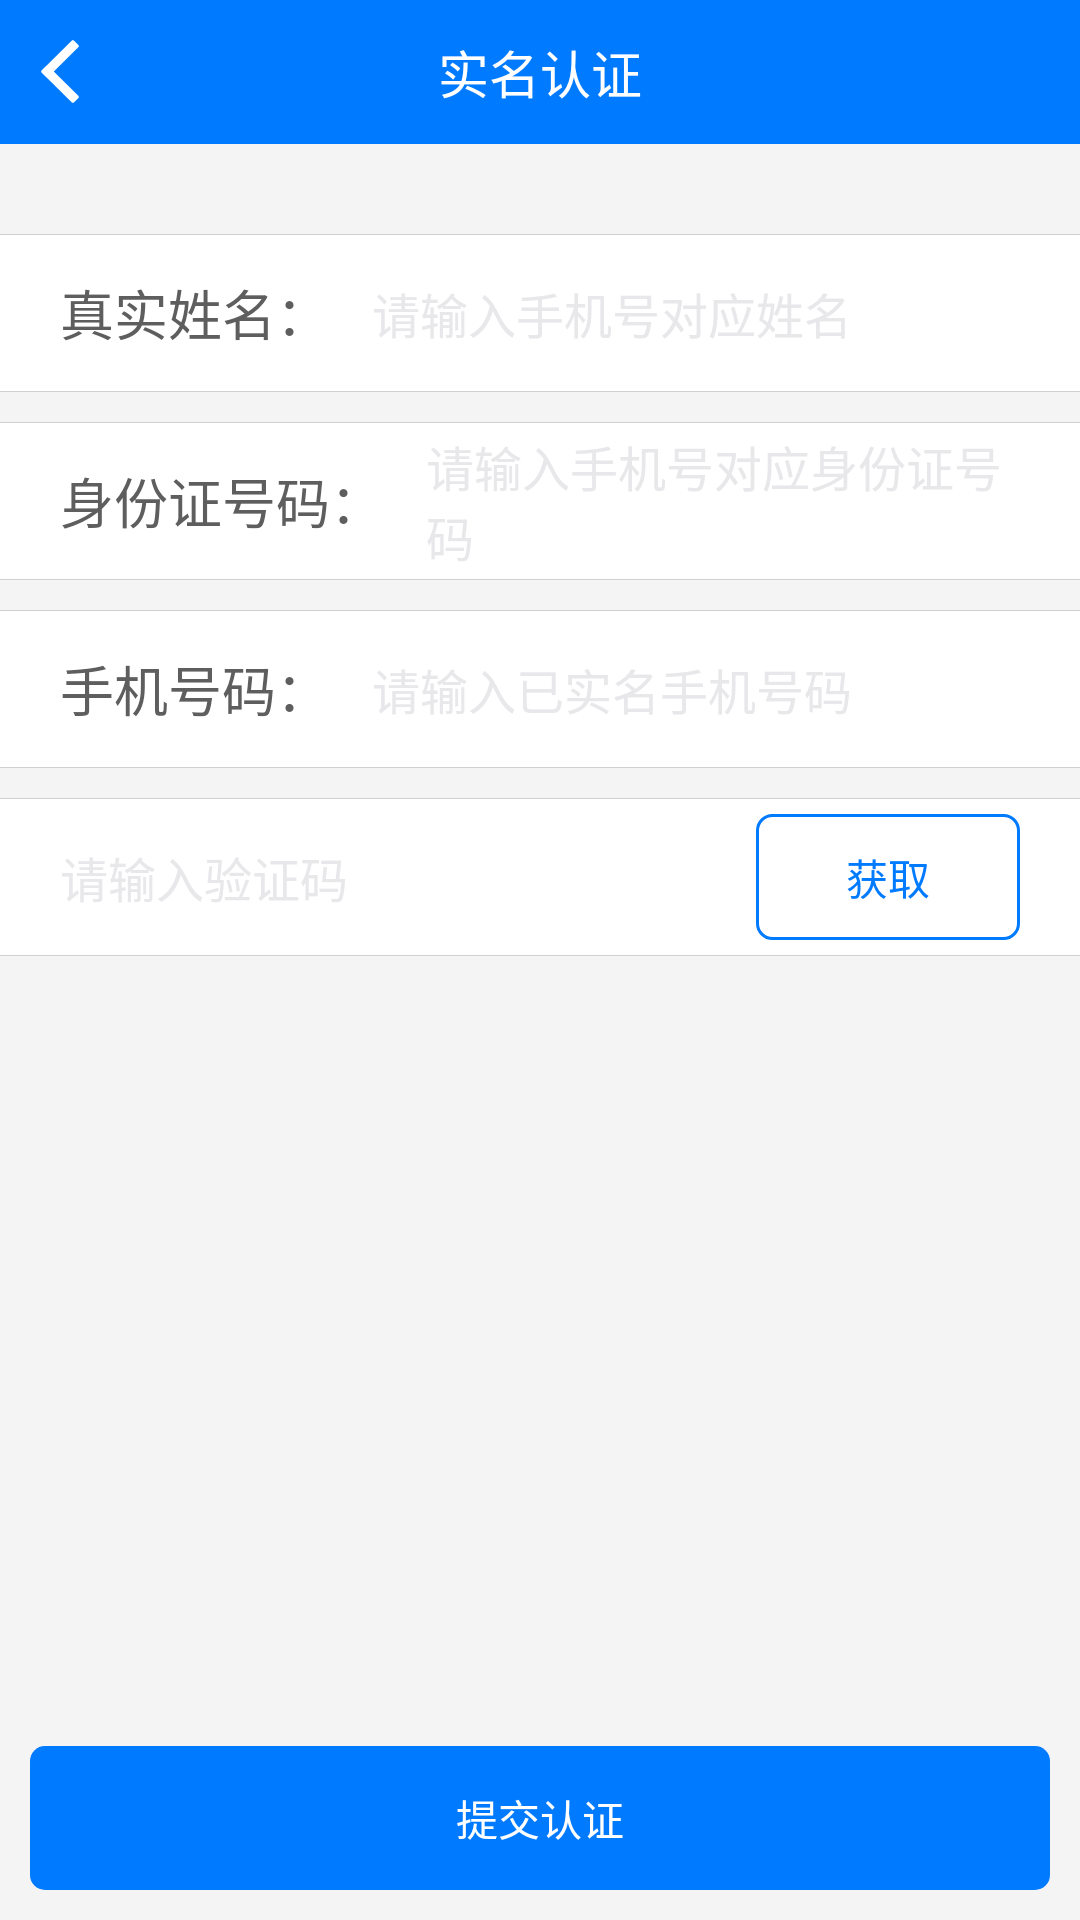

Where to tap for icons on this 1080px×1920px app screen, as (x,y):
back: (60,71)
